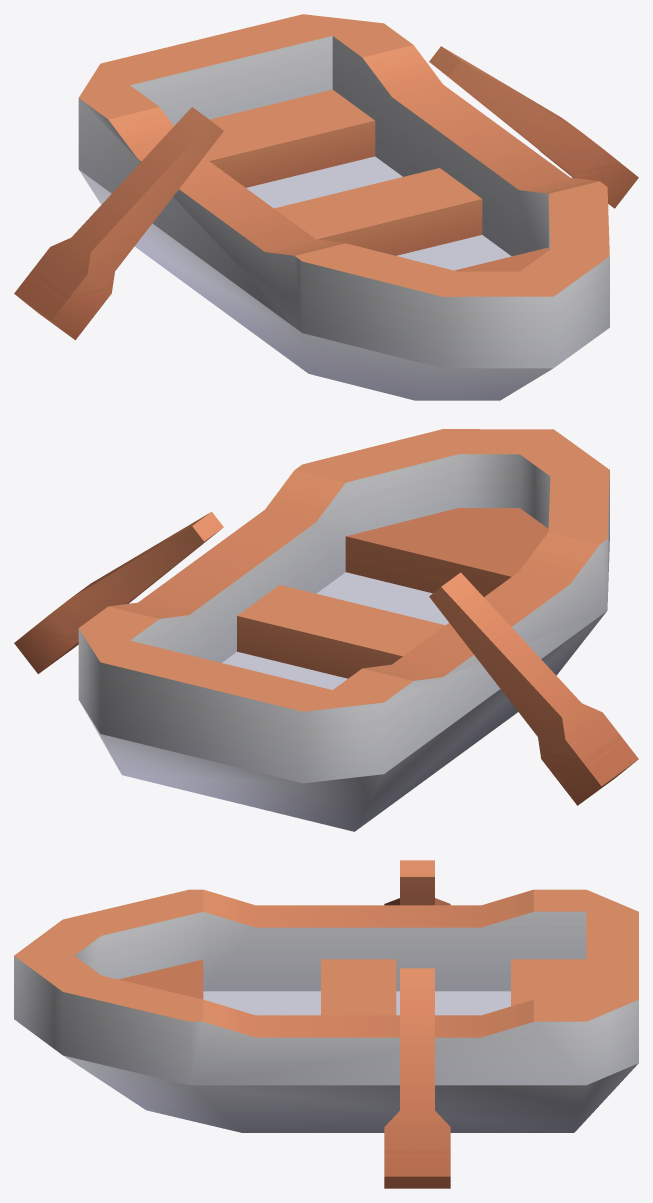
The model's file is boat-row-large-transformed-transformed.glb.
3 views of the same model, one above another, from view 1: azimuth 30°, elevation 25°; view 2: azimuth 150°, elevation 25°; view 3: azimuth 270°, elevation 25° (orthographic). The views are drawn at different scales.
Parts seen in each view (by area): view 1: boat-row-large, paddles; view 2: boat-row-large, paddles; view 3: boat-row-large, paddles.
Boxes of the visible parts, x1,y1,x2,y2 form: boat-row-large: [78, 14, 609, 400]; paddles: [14, 46, 638, 340]; boat-row-large: [78, 429, 609, 831]; paddles: [14, 512, 638, 805]; boat-row-large: [14, 889, 638, 1132]; paddles: [384, 860, 450, 1188].
Bounding box in the file's own units: 2.75 × 0.8478 × 2.85.
1 material, 1 textured.
